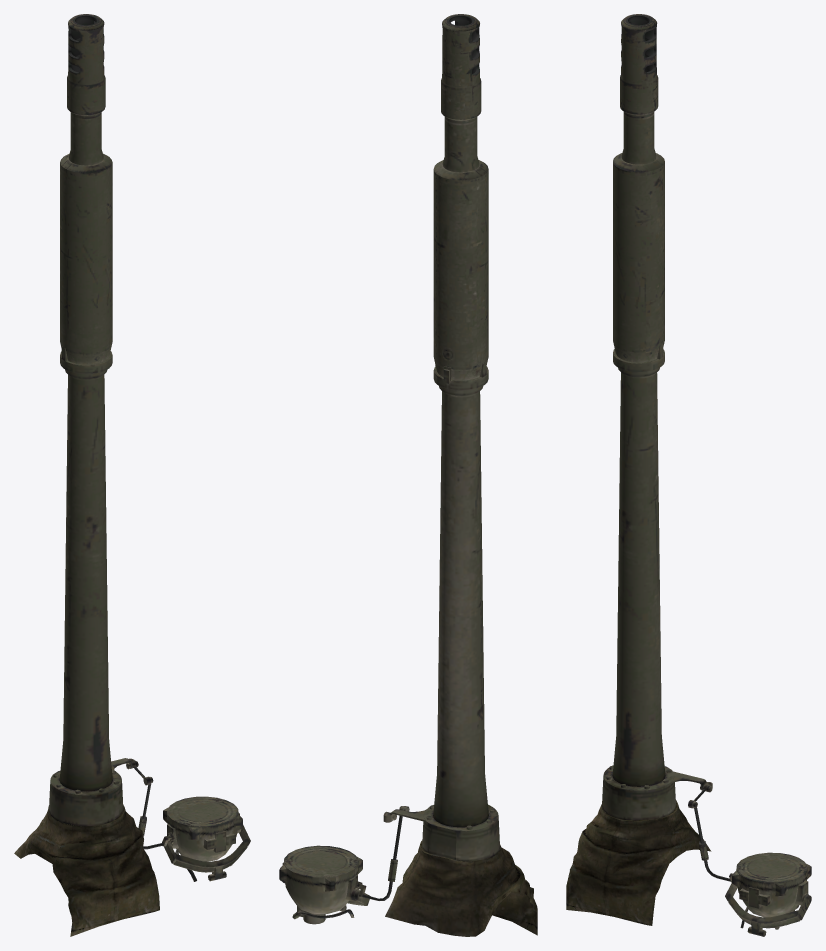
The model's file is Gun_01.glb.
3 renders of one model, left to right at view 1: azimuth 30°, elevation 25°; view 2: azimuth 150°, elevation 25°; view 3: azimuth 330°, elevation 25°, orthographic. The views are drawn at different scales.
Visible parts, largest first — view 1: set_0_group_0; view 2: set_0_group_0; view 3: set_0_group_0.
Boxes of the visible parts, x1,y1,x2,y2 form: set_0_group_0: [14, 14, 250, 936]; set_0_group_0: [279, 14, 537, 936]; set_0_group_0: [566, 14, 811, 936].
Size of the model in its own units: 1.15 by 4.66 by 0.5956.
1 material, 1 textured.
